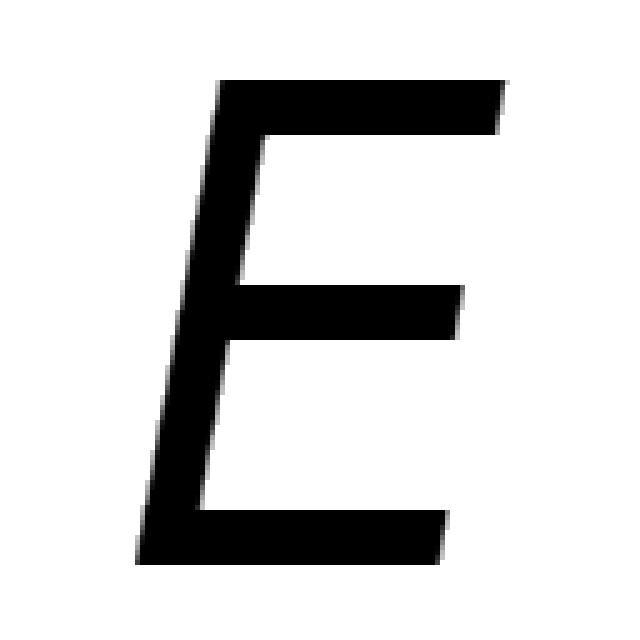E: (135, 80, 510, 565)
